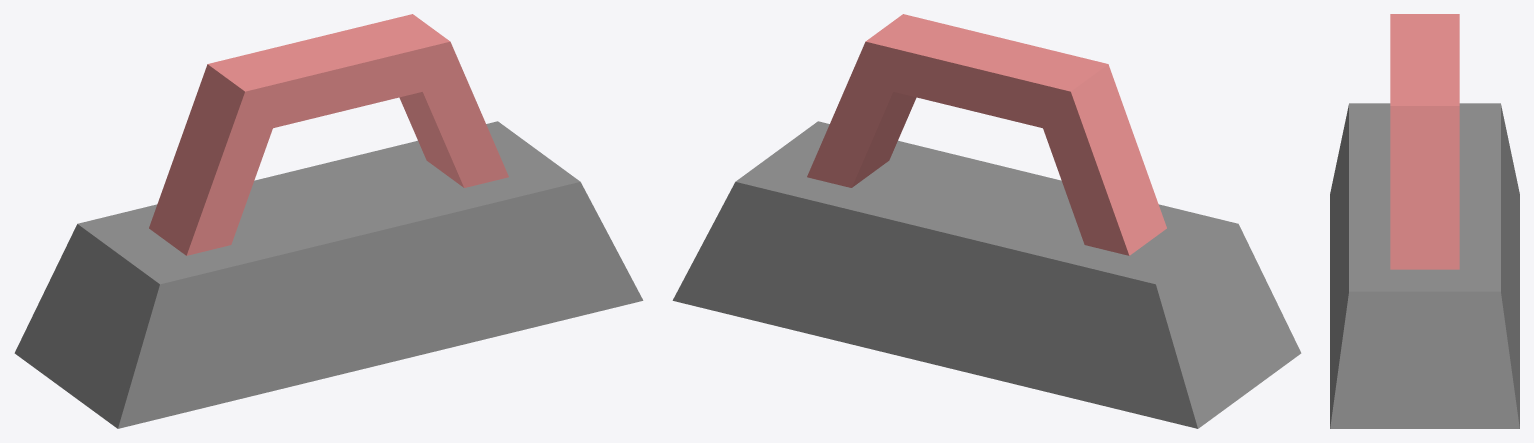
Rendered from ringdown.gltf.
The picture shows the model from 3 angles, left to right: view 1: azimuth 30°, elevation 25°; view 2: azimuth 150°, elevation 25°; view 3: azimuth 270°, elevation 25°; orthographic projection. The views are drawn at different scales.
Visible parts, largest first — view 1: ringdown; view 2: ringdown; view 3: ringdown.
Boxes of the visible parts, x1,y1,x2,y2 form: ringdown: [14, 14, 643, 428]; ringdown: [672, 14, 1301, 428]; ringdown: [1330, 14, 1519, 428].
Bounding box in the file's own units: 2.79 × 1.39 × 0.9504.
